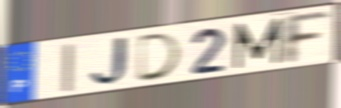2: (187, 23, 231, 78)
D: (134, 30, 185, 85)
F: (281, 10, 333, 66)
I: (61, 42, 76, 94)
J: (88, 34, 134, 89)
M: (233, 16, 285, 71)
